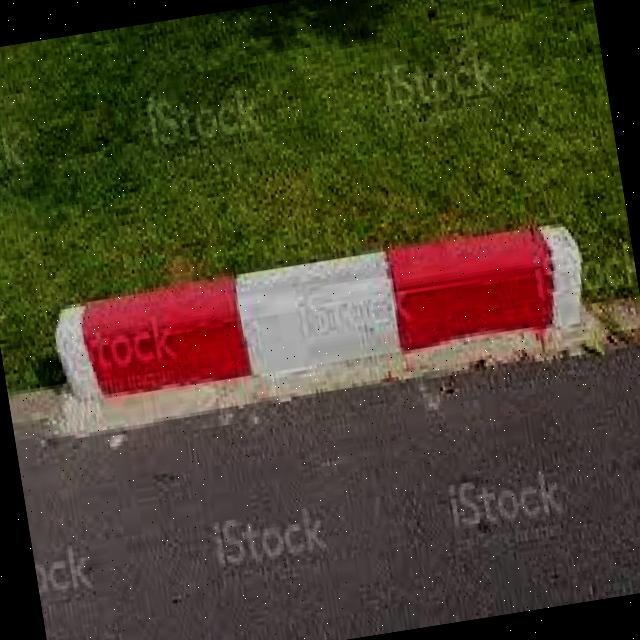curb: (53, 232, 560, 401)
